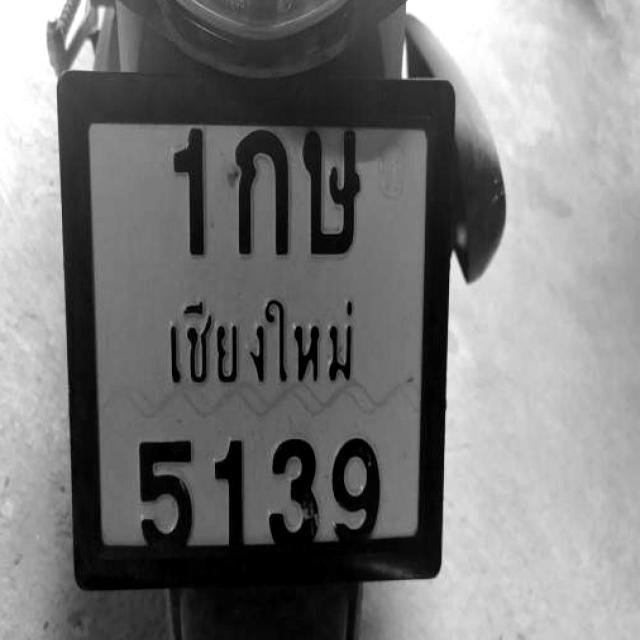letters: (119, 433, 202, 560), (298, 128, 372, 270), (166, 120, 218, 277), (329, 434, 392, 550), (234, 121, 282, 270), (214, 432, 253, 539), (272, 436, 308, 550)
license-plate: (76, 99, 433, 572)
province: (145, 308, 385, 399)
